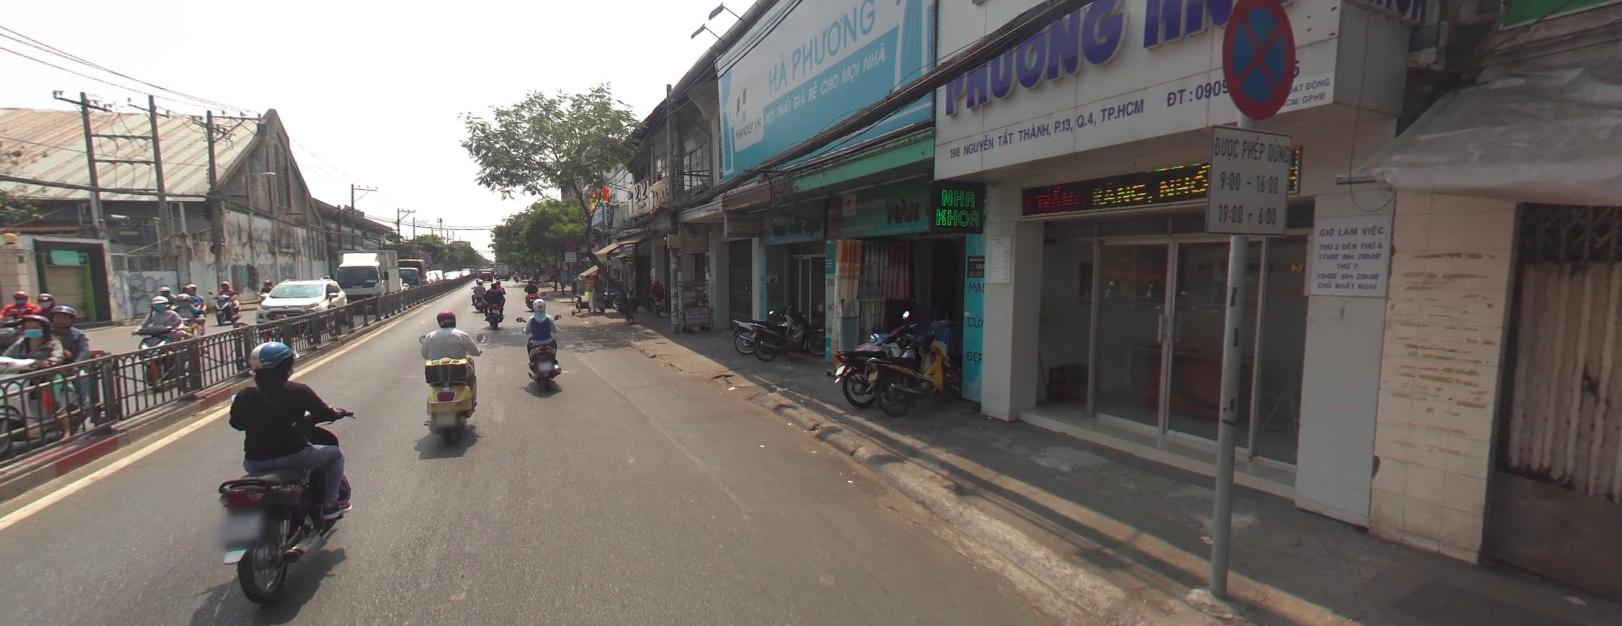Cam dung va do: (1219, 0, 1299, 122), (1221, 0, 1294, 122), (564, 236, 579, 250), (564, 238, 576, 249)
